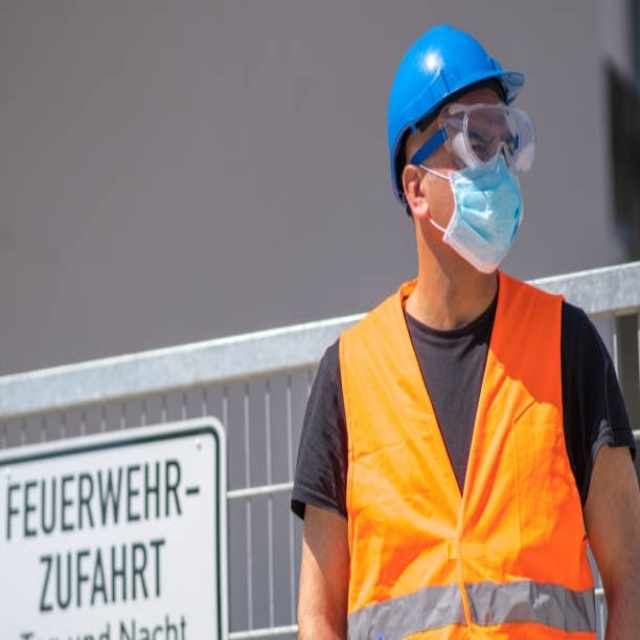Gafas: (412, 102, 535, 175)
Mascara: (428, 150, 523, 272)
